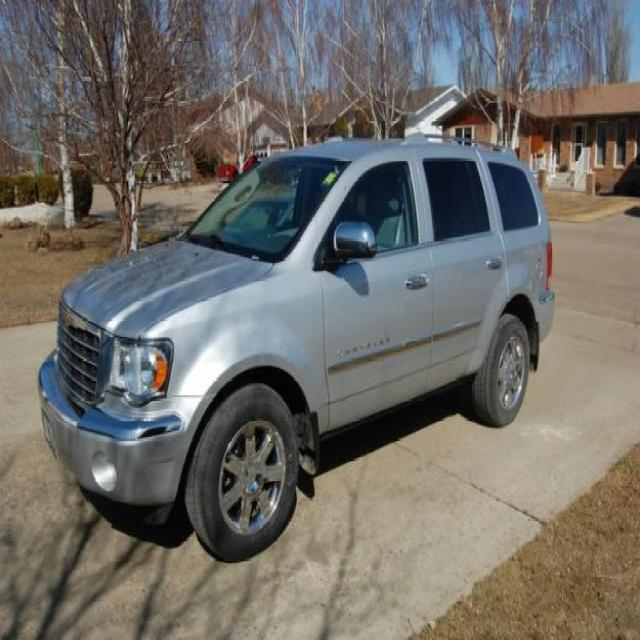Car: (34, 141, 584, 550)
